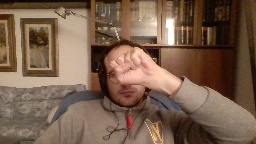Pugno: (108, 44, 155, 86)
